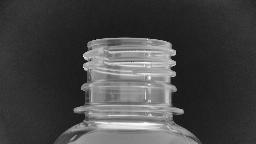No Cap: (69, 34, 187, 120)
